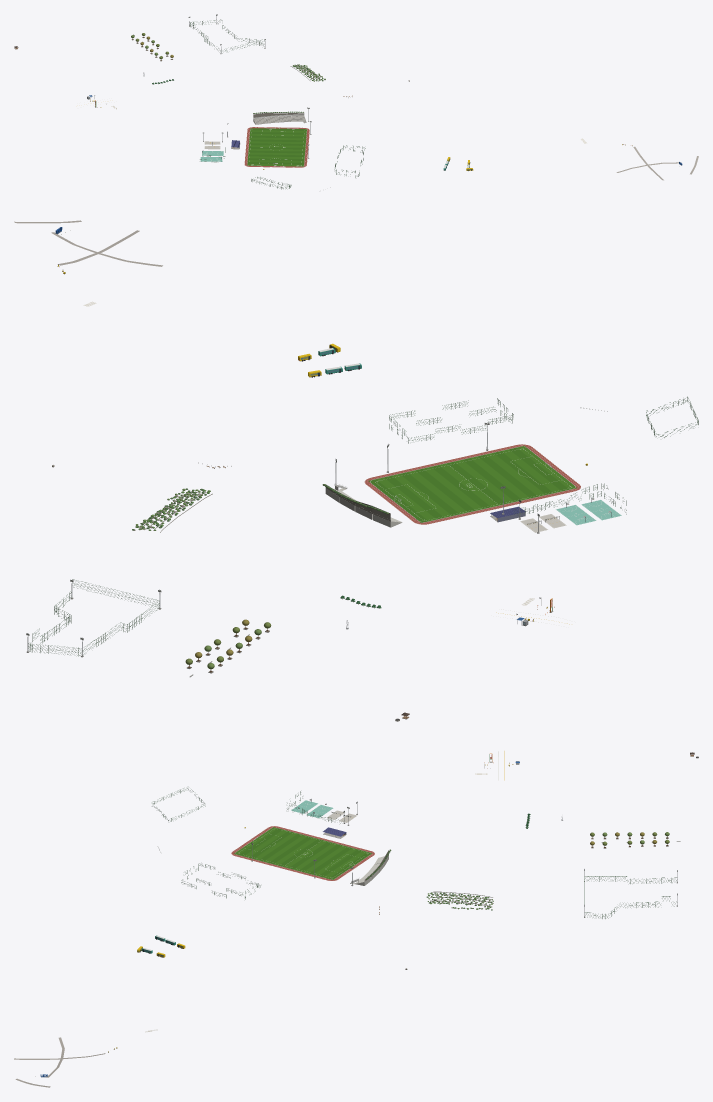
3 renders of one model, top to bottom at view 1: azimuth 30°, elevation 25°; view 2: azimuth 150°, elevation 25°; view 3: azimuth 270°, elevation 25°, orthographic. The views are drawn at different scales.
Parts seen in each view (by area): view 1: outer-surface (×3), outer_stand_seg__stand-riser, outer_stand_seg__stand-tread; view 2: outer-surface (×4), object 32, outer-merged-chain-fence; view 3: outer-surface (×3).
Boxes of the visible parts, x1,y1,x2,y2 form: outer-surface (×3): (244,127,309,167); outer_stand_seg__stand-riser: (254,115,304,124); outer_stand_seg__stand-tread: (254,115,304,124); outer-surface (×4): (364,444,621,525); object 32: (28,396,698,656); outer-merged-chain-fence: (28,398,698,655); outer-surface (×3): (231,826,374,880).
Size of the model in its own units: 664 by 61.04 by 659.
